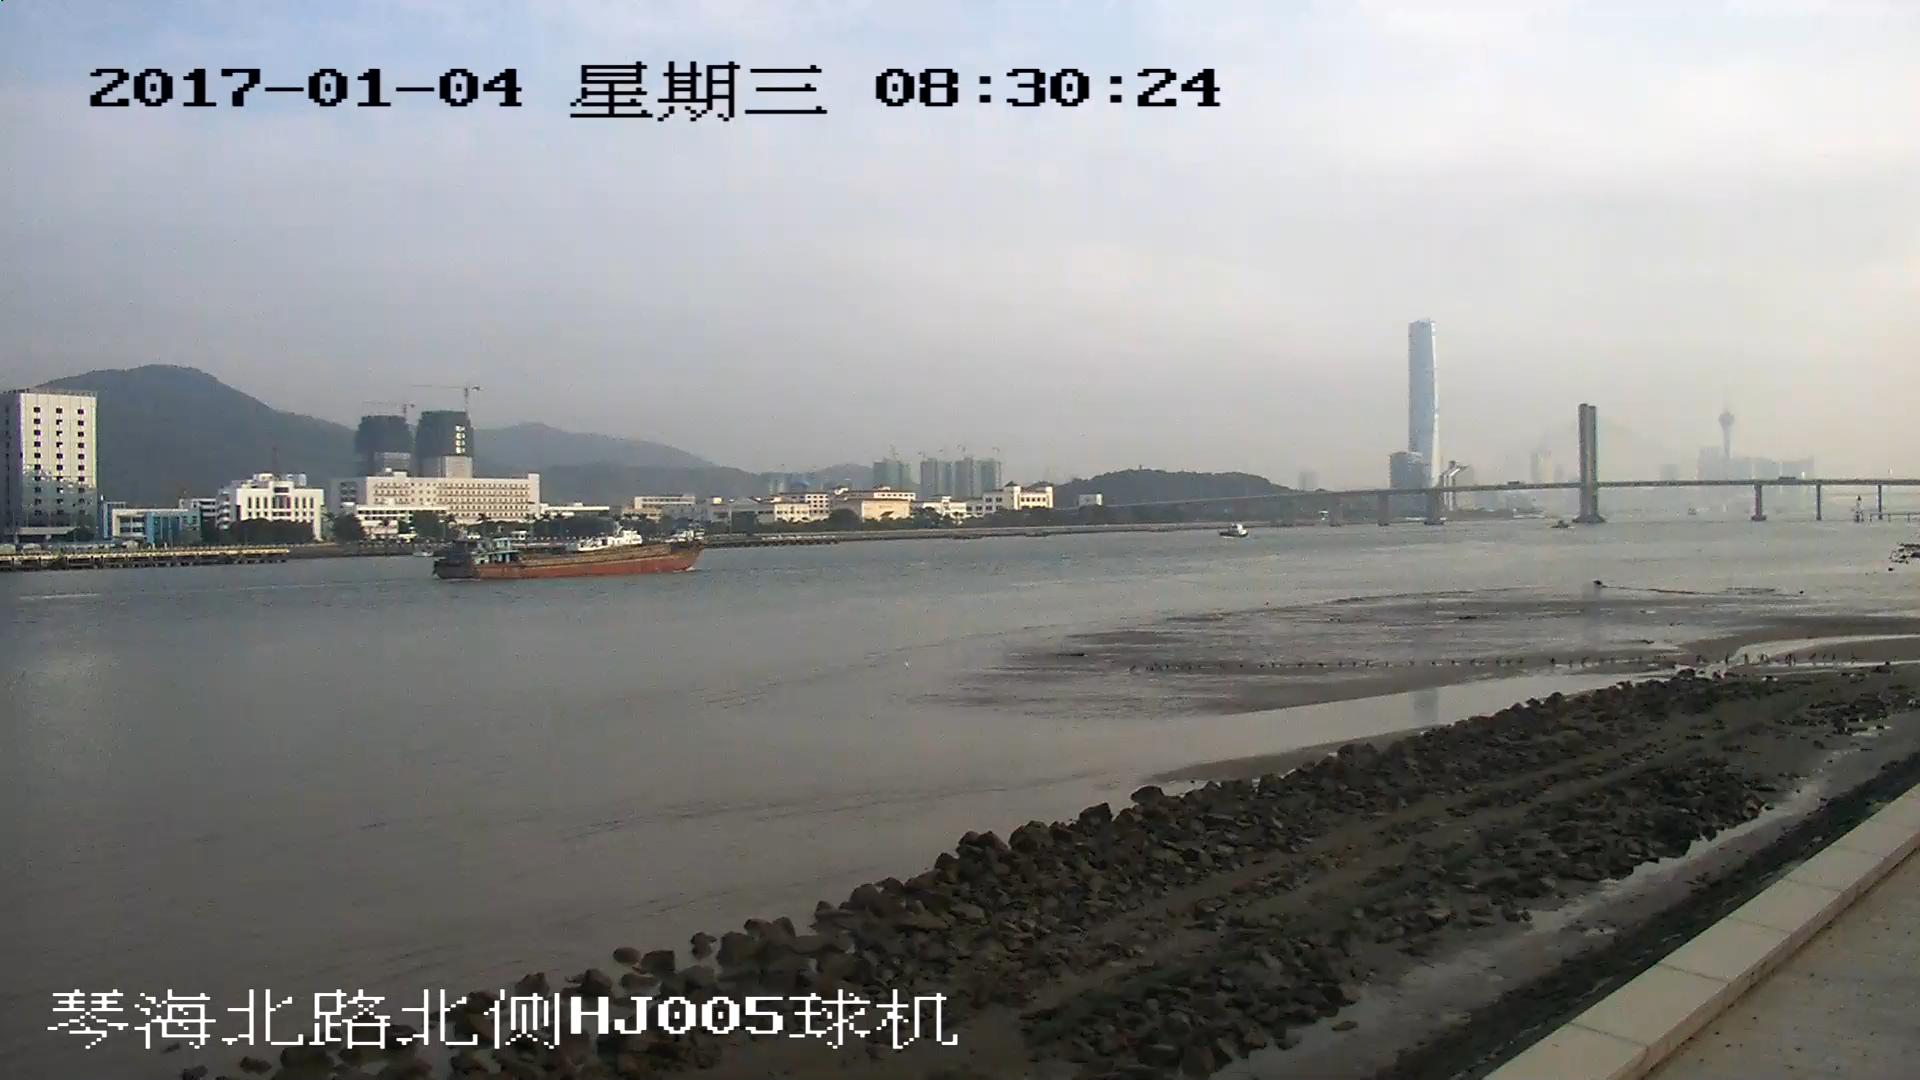bulk cargo carrier: (436, 537, 709, 577)
